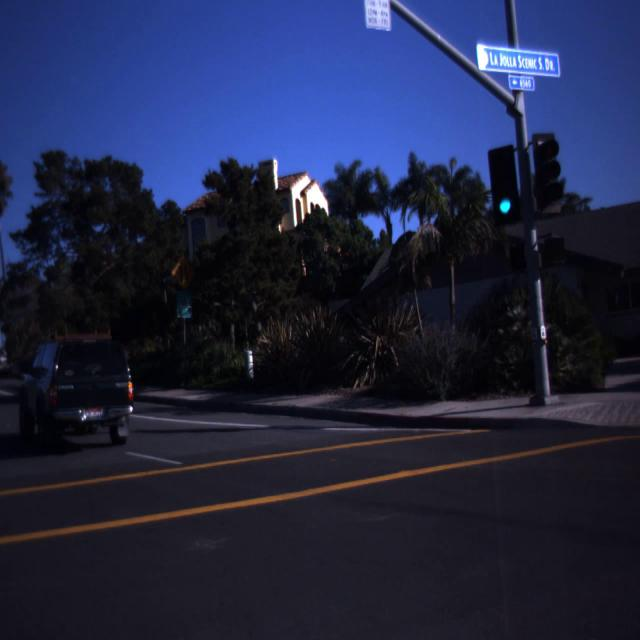yesil: (487, 144, 520, 225)
